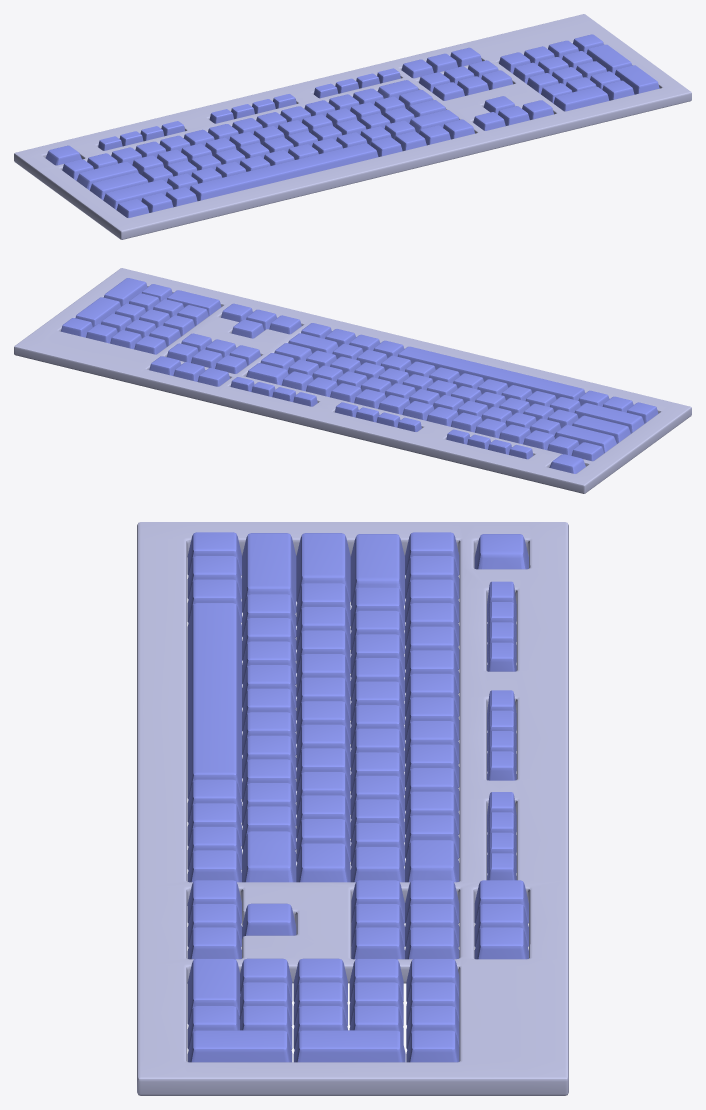
File: keyboard_mesh.fbx
3 views of the same model, one above another, from view 1: azimuth 30°, elevation 25°; view 2: azimuth 150°, elevation 25°; view 3: azimuth 270°, elevation 25° (orthographic). The views are drawn at different scales.
Visible parts, largest first — view 1: polySurface155, button_space, polySurface159, polySurface162, polySurface164, polySurface107, polySurface124, polySurface156, polySurface134, polySurface97, button_backspace, polySurface81 (+28 smaller); view 2: polySurface155, button_space, polySurface159, polySurface164, polySurface107, polySurface156, polySurface124, polySurface162, button_backspace, polySurface134, polySurface97, polySurface140 (+35 smaller); view 3: polySurface155, button_space, polySurface156, polySurface159, polySurface124, polySurface164, polySurface107, polySurface134, polySurface162, button_backspace, button_enter, polySurface97 (+80 smaller).
Boxes of the visible parts, x1,y1,x2,y2 form: polySurface155: [14, 14, 691, 239]; button_space: [189, 143, 378, 200]; polySurface159: [103, 179, 173, 209]; polySurface162: [553, 86, 609, 111]; polySurface164: [76, 162, 138, 190]; polySurface107: [90, 172, 148, 200]; polySurface124: [615, 65, 659, 94]; polySurface156: [586, 44, 631, 74]; polySurface134: [409, 110, 459, 133]; polySurface97: [45, 145, 81, 165]; button_backspace: [377, 80, 418, 98]; polySurface81: [116, 199, 148, 217]; polySurface155: [14, 268, 691, 493]; button_space: [397, 346, 585, 400]; polySurface159: [574, 403, 644, 433]; polySurface164: [554, 425, 616, 453]; polySurface107: [572, 415, 630, 443]; polySurface156: [75, 297, 120, 326]; polySurface124: [103, 278, 147, 306]; polySurface162: [167, 290, 221, 315]; button_backspace: [246, 363, 288, 385]; polySurface134: [288, 333, 338, 353]; polySurface97: [549, 454, 585, 473]; polySurface140: [231, 319, 264, 338]; polySurface155: [137, 522, 568, 1095]; button_space: [187, 603, 241, 799]; polySurface156: [293, 1030, 405, 1062]; polySurface159: [242, 533, 296, 613]; polySurface124: [187, 1030, 292, 1062]; polySurface164: [350, 534, 404, 605]; polySurface107: [296, 533, 350, 602]; polySurface134: [242, 831, 296, 882]; polySurface162: [187, 958, 240, 1024]; button_backspace: [405, 840, 459, 882]; button_enter: [296, 843, 350, 882]; polySurface97: [474, 534, 528, 569].
Size of the model in its own units: 15.33 by 0.3804 by 5.02.
